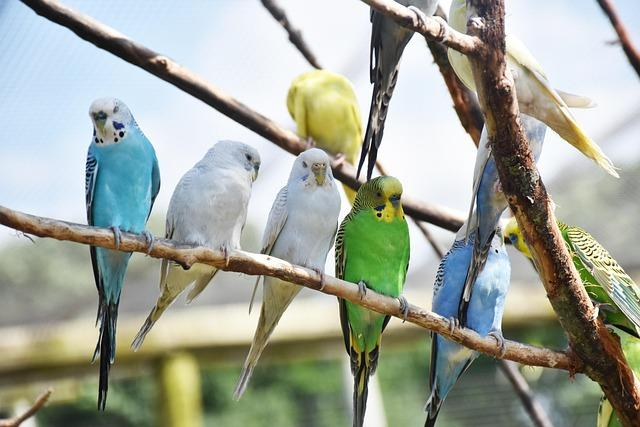Non_Gorille: (56, 3, 640, 426)
